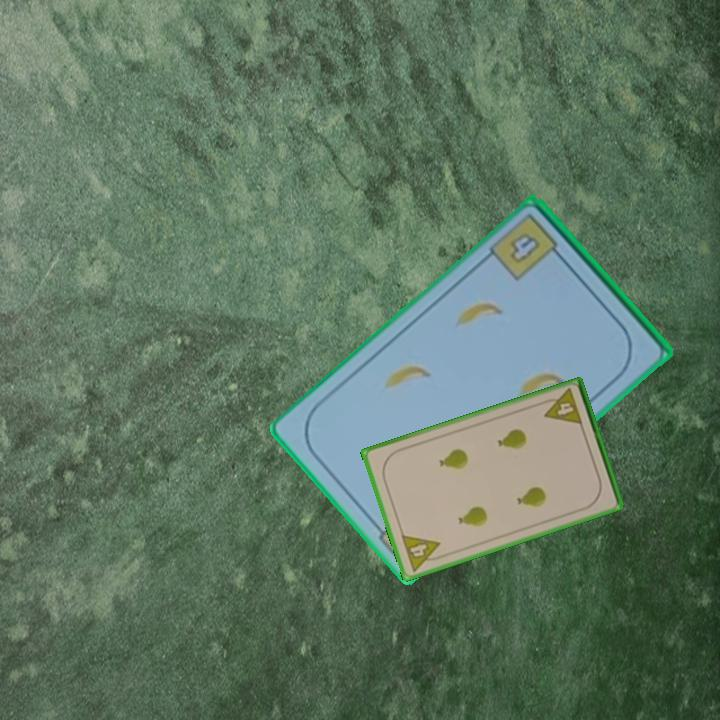4b: (505, 229, 544, 268)
4p: (398, 531, 447, 574), (537, 385, 585, 428)
